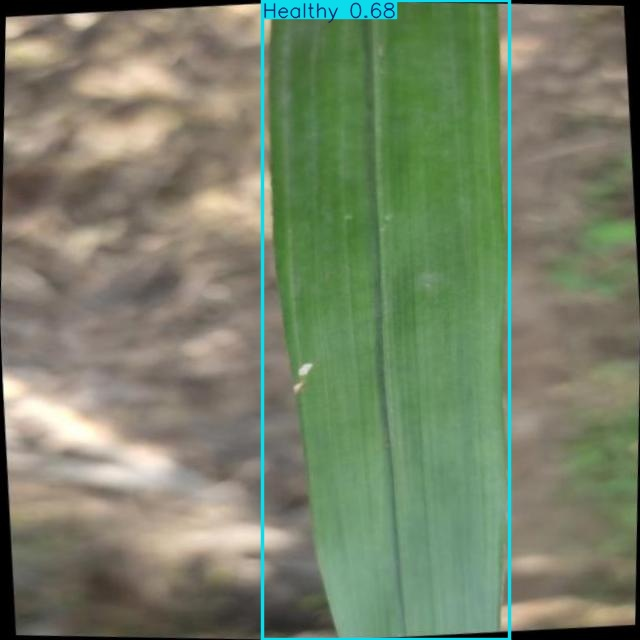Healthy: (263, 0, 509, 639)
